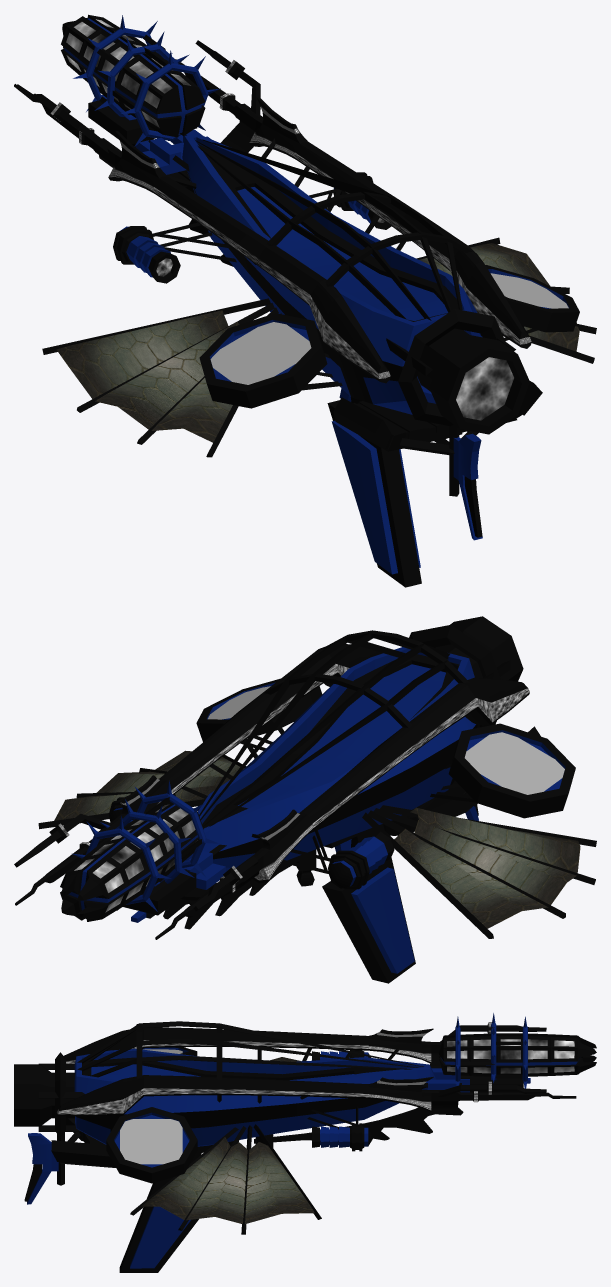
File: P2ShipV3.fbx
3 views of the same model, one above another, from view 1: azimuth 30°, elevation 25°; view 2: azimuth 150°, elevation 25°; view 3: azimuth 270°, elevation 25° (orthographic). The views are drawn at different scales.
Visible parts, largest first — view 1: pCylinder1, pPlane20 (×2), pPlane4, pPlane2, pCylinder25, pPlane19, pCylinder44, pCylinder56, pCylinder28, pPlane21, pPlane3, pCylinder51 (+17 smaller); view 2: pCylinder1, pPlane20 (×2), pPlane4, pCylinder44, pPlane19, pPlane2, pCylinder56, pCylinder28, pPlane21, pCylinder51, pCylinder25, pTorus1 (+20 smaller); view 3: pCylinder1, pPlane2, pPlane20, pPlane4, pCylinder44, pCylinder56, pPlane19, pCylinder3, pPlane22, pCylinder25, pCylinder51, pPlane6 (+18 smaller).
Boxes of the visible parts, x1,y1,x2,y2 form: pCylinder1: [182, 133, 482, 414]; pPlane20 (×2): [56, 243, 579, 442]; pPlane4: [14, 84, 390, 383]; pPlane2: [175, 59, 531, 348]; pCylinder25: [417, 328, 529, 434]; pPlane19: [327, 397, 421, 587]; pCylinder44: [61, 14, 205, 137]; pCylinder56: [195, 139, 462, 320]; pCylinder28: [199, 313, 327, 408]; pPlane21: [210, 322, 311, 384]; pPlane3: [333, 381, 542, 451]; pCylinder51: [198, 144, 458, 321]; pCylinder1: [185, 647, 477, 871]; pPlane20 (×2): [54, 750, 580, 928]; pPlane4: [155, 677, 529, 939]; pCylinder44: [60, 801, 203, 921]; pPlane19: [322, 824, 415, 983]; pPlane2: [15, 644, 382, 905]; pCylinder56: [199, 631, 458, 827]; pCylinder28: [448, 723, 575, 818]; pPlane21: [464, 732, 564, 794]; pCylinder51: [202, 654, 459, 828]; pCylinder25: [434, 616, 523, 681]; pTorus1: [409, 625, 500, 727]; pCylinder1: [74, 1048, 436, 1146]; pPlane2: [56, 1075, 576, 1116]; pPlane20: [141, 1137, 314, 1224]; pPlane4: [64, 1027, 441, 1063]; pCylinder44: [438, 1033, 596, 1076]; pCylinder56: [77, 1021, 423, 1077]; pPlane19: [119, 1140, 239, 1272]; pCylinder3: [106, 1107, 197, 1183]; pPlane22: [120, 1119, 182, 1164]; pCylinder25: [14, 1064, 75, 1126]; pCylinder51: [82, 1057, 399, 1080]; pPlane6: [254, 1107, 463, 1143].
Bounding box in the file's own units: 14.46 × 10.1 × 21.16.
